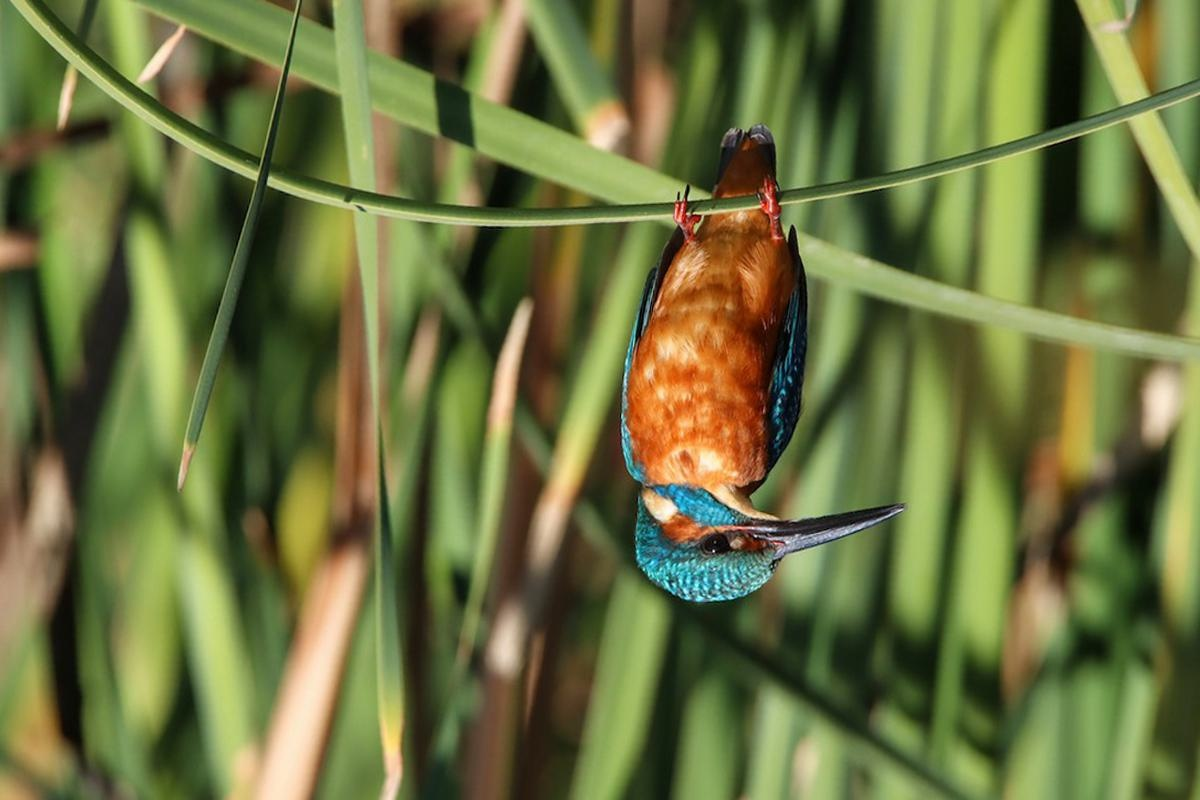kingfisher: (645, 107, 918, 622)
